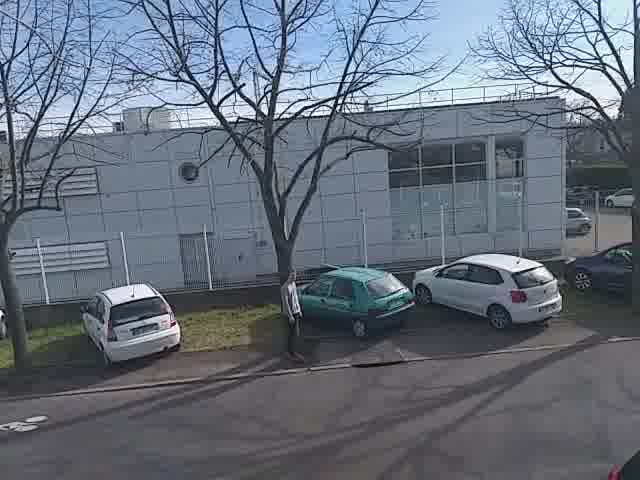persona: (272, 266, 307, 371)
